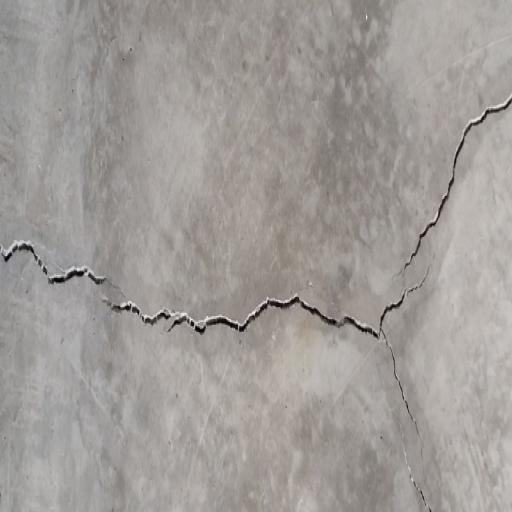spalling: (50, 268, 435, 339), (404, 94, 512, 269), (381, 328, 424, 477), (0, 241, 106, 284), (403, 443, 433, 512)
